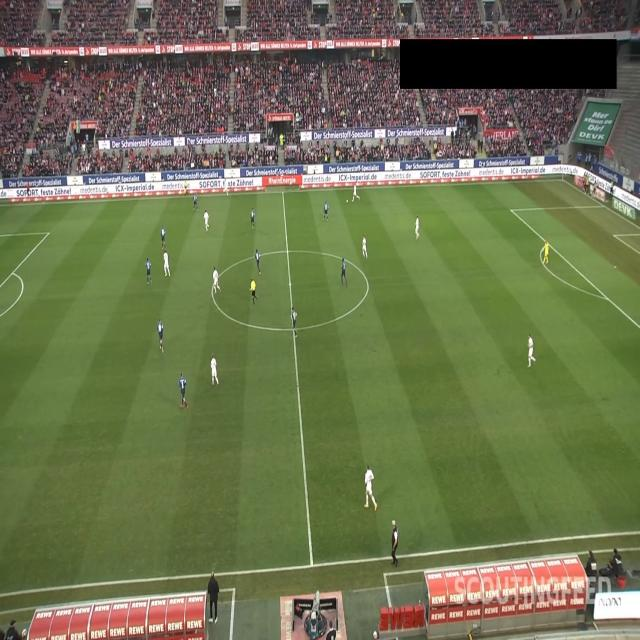ball: (346, 198, 348, 204)
